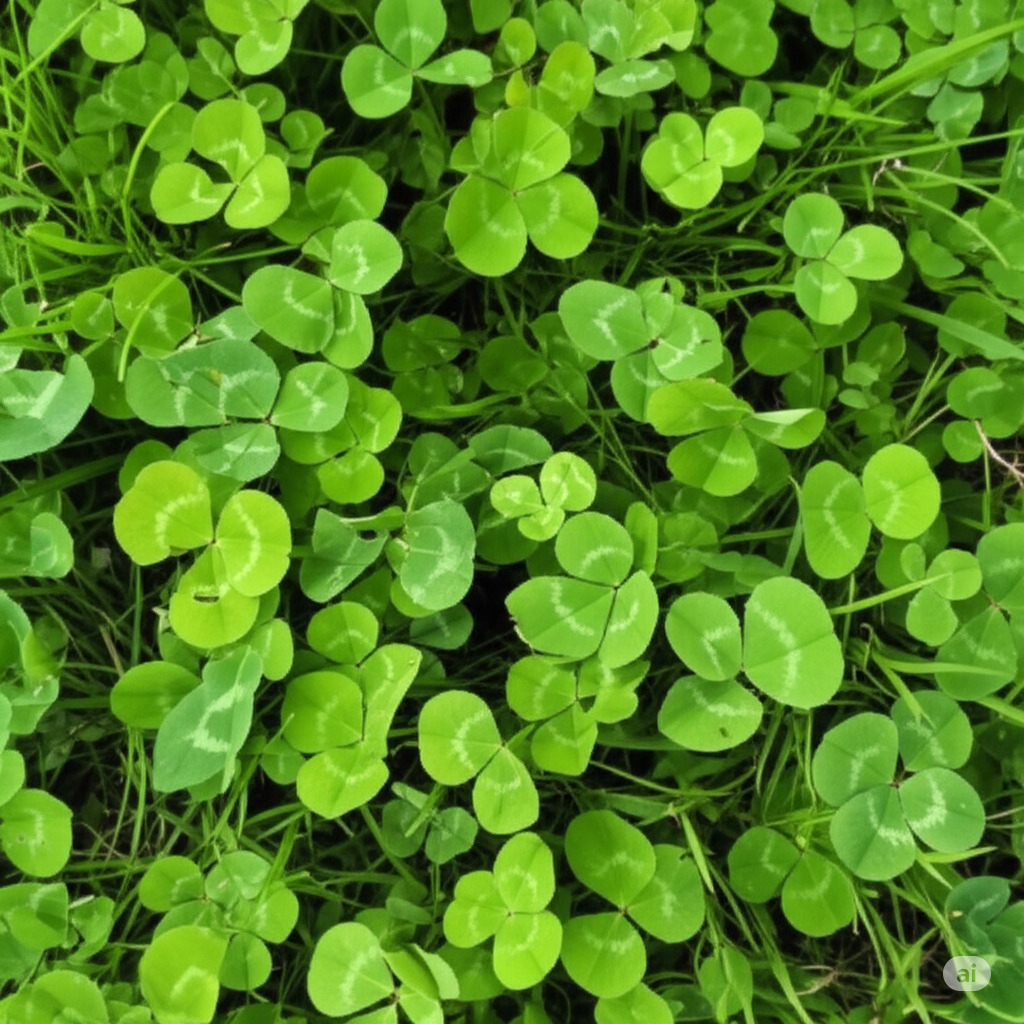3 leaf clover: (110, 458, 296, 650), (661, 574, 849, 756), (556, 800, 706, 997), (443, 103, 601, 281), (502, 509, 660, 668), (441, 812, 564, 993), (781, 189, 908, 329)
4 leaf clover: (812, 696, 986, 885)
